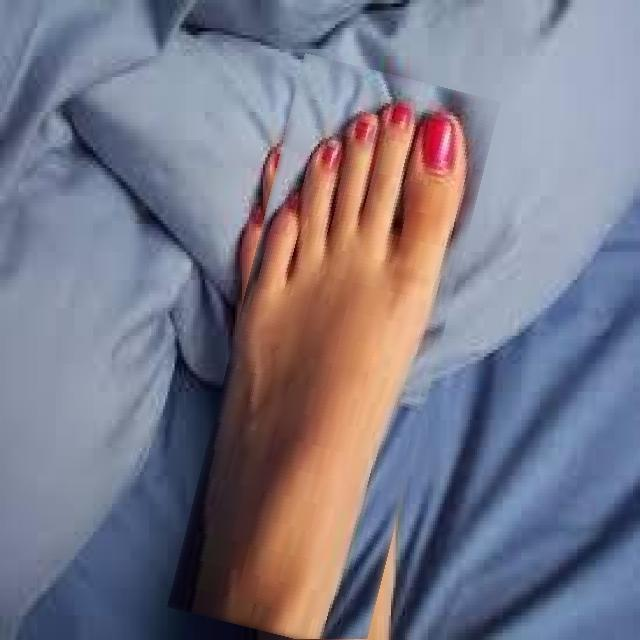No_Shoes: (246, 100, 524, 640)
